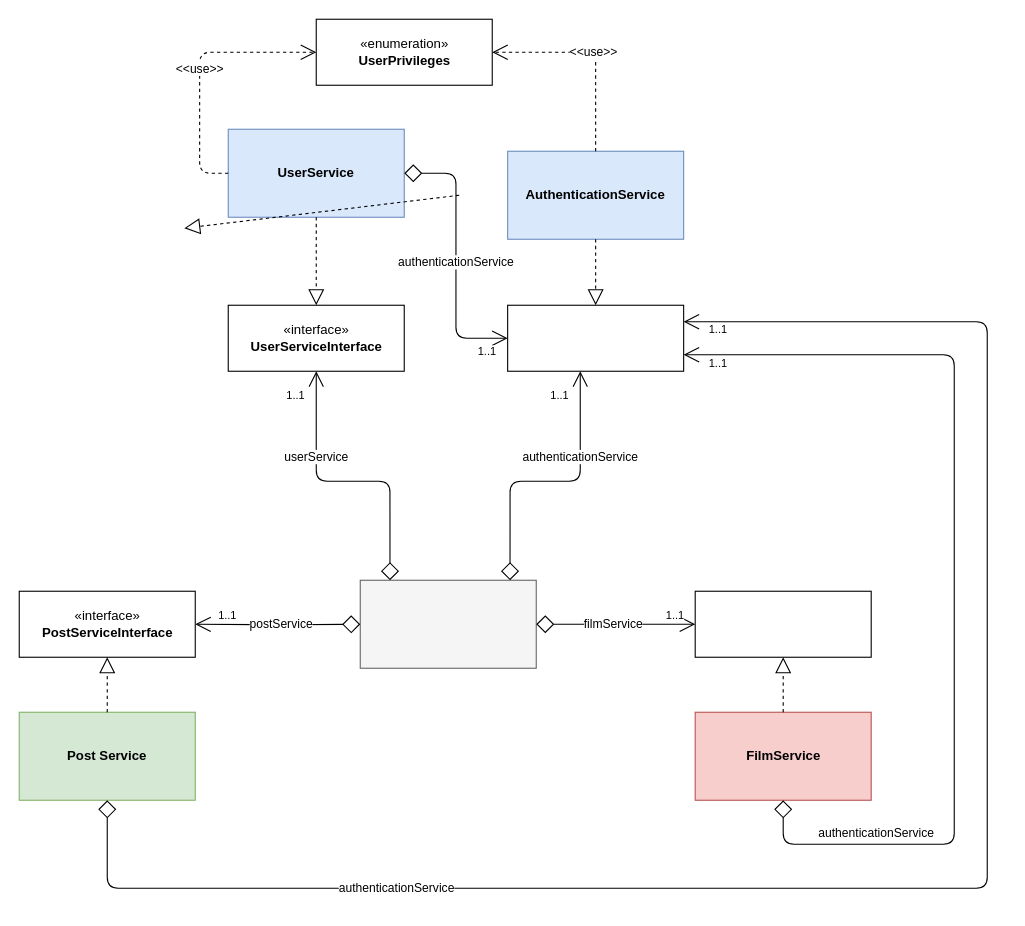
Image size: 1025x926. Some labels were removed from this diagram. The centre of each missing label's shape, as x and y in pixels:
PisaFlixServices: [447,623]
«interface» Authentication- -ServiceInterface: [595,337]
«interface» FilmServiceInterface: [782,623]
